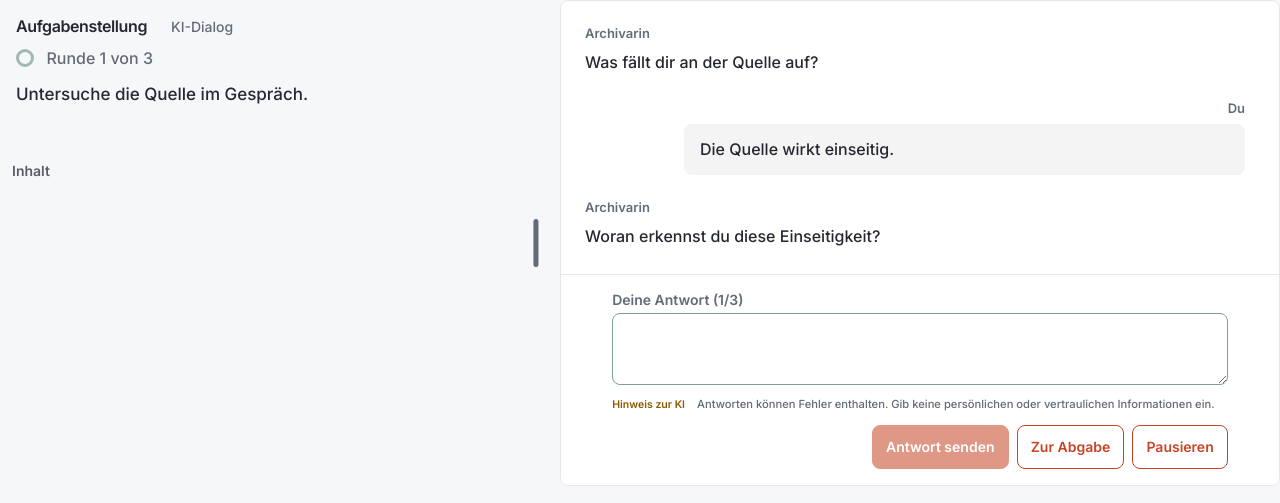
Test case: LearningDialogWorkspace › uses the same two-step submission when no closing prompt exists
This screenshot has width=1280, height=503.
Click the button "Zur Abgabe". click: (1070, 447)
box: [1017,425,1124,469]
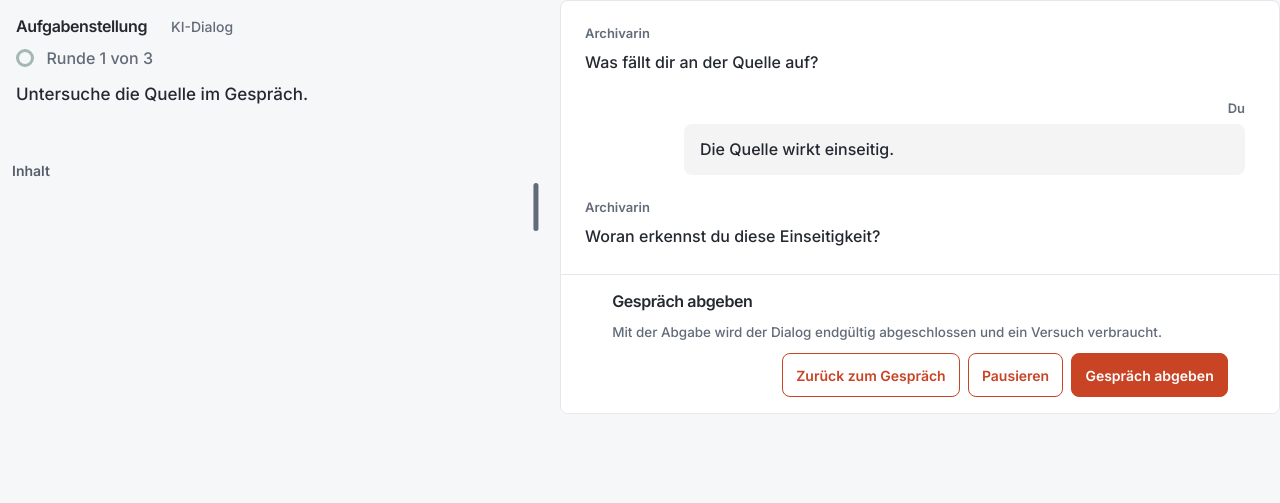
Expected: the button "Gespräch abgeben" is enabled, [1071,353,1228,397]
Result: the text "Mit der Abgabe wird der Dialog endgültig abgeschlossen und ein Versuch verbraucht." is shown at [612,324,1162,340]
